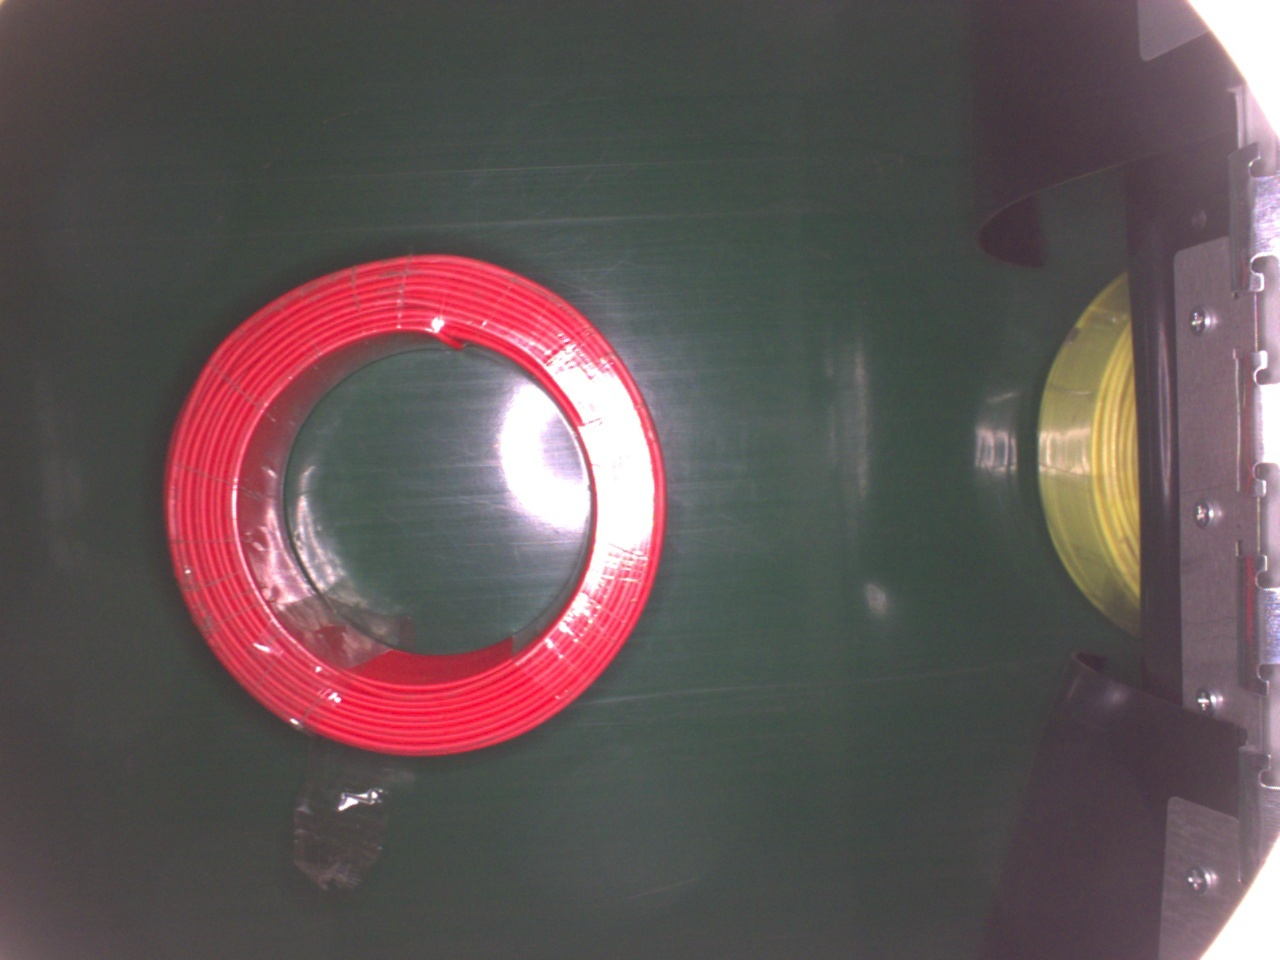red: (167, 251, 663, 758)
